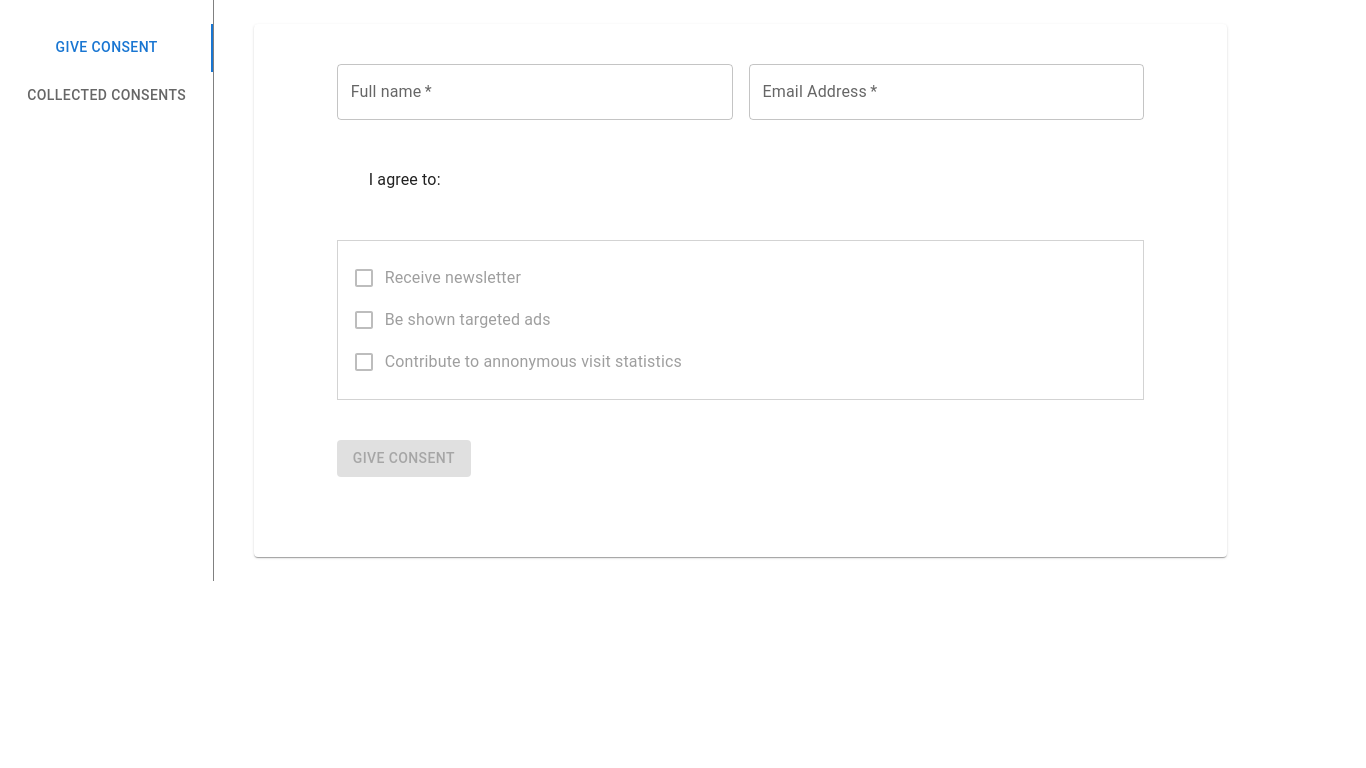
it: Home Component › switches tabs and renders "Consents" component when "Collected Consent" tab is clicked
Click the tab "Collected consents": click(107, 95) left=27, top=87, right=186, bottom=103
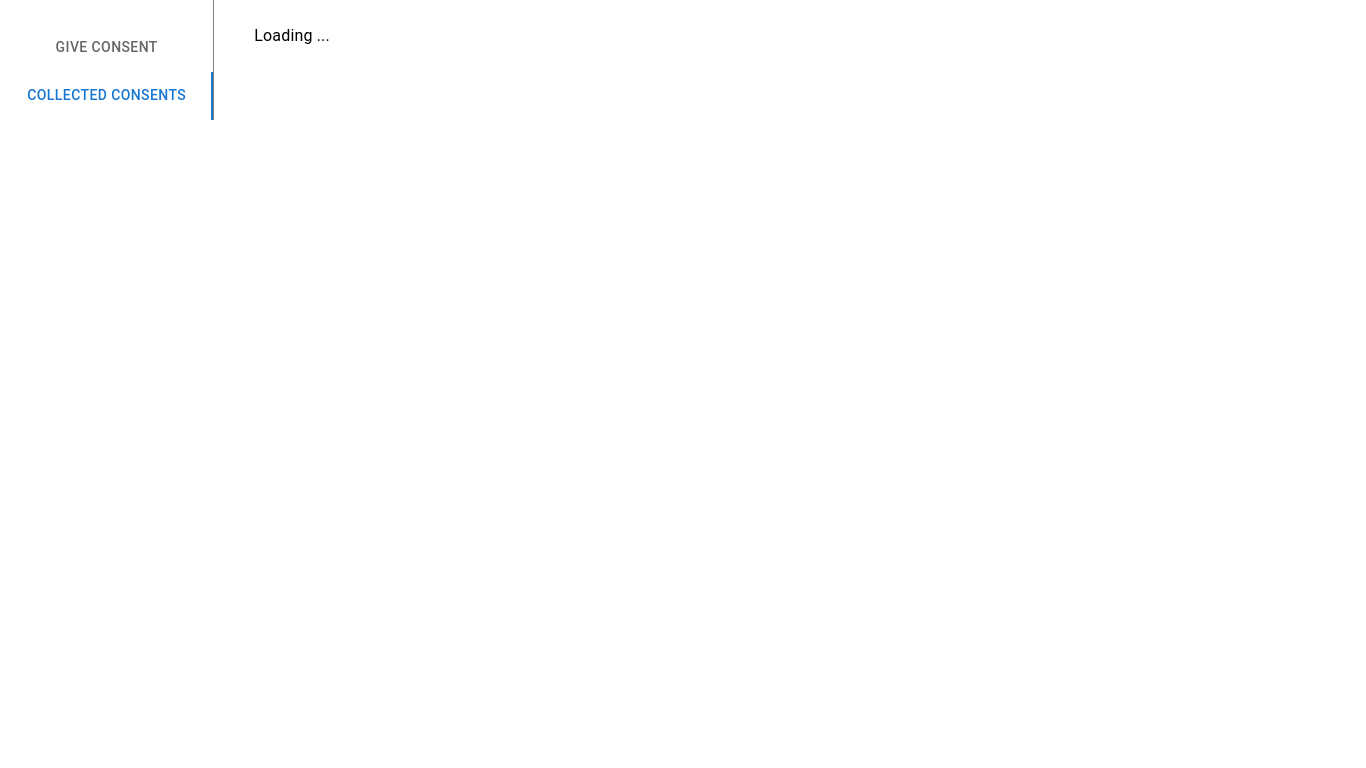
Expected: the text "Loading ..." is shown, left=254, top=26, right=330, bottom=45
